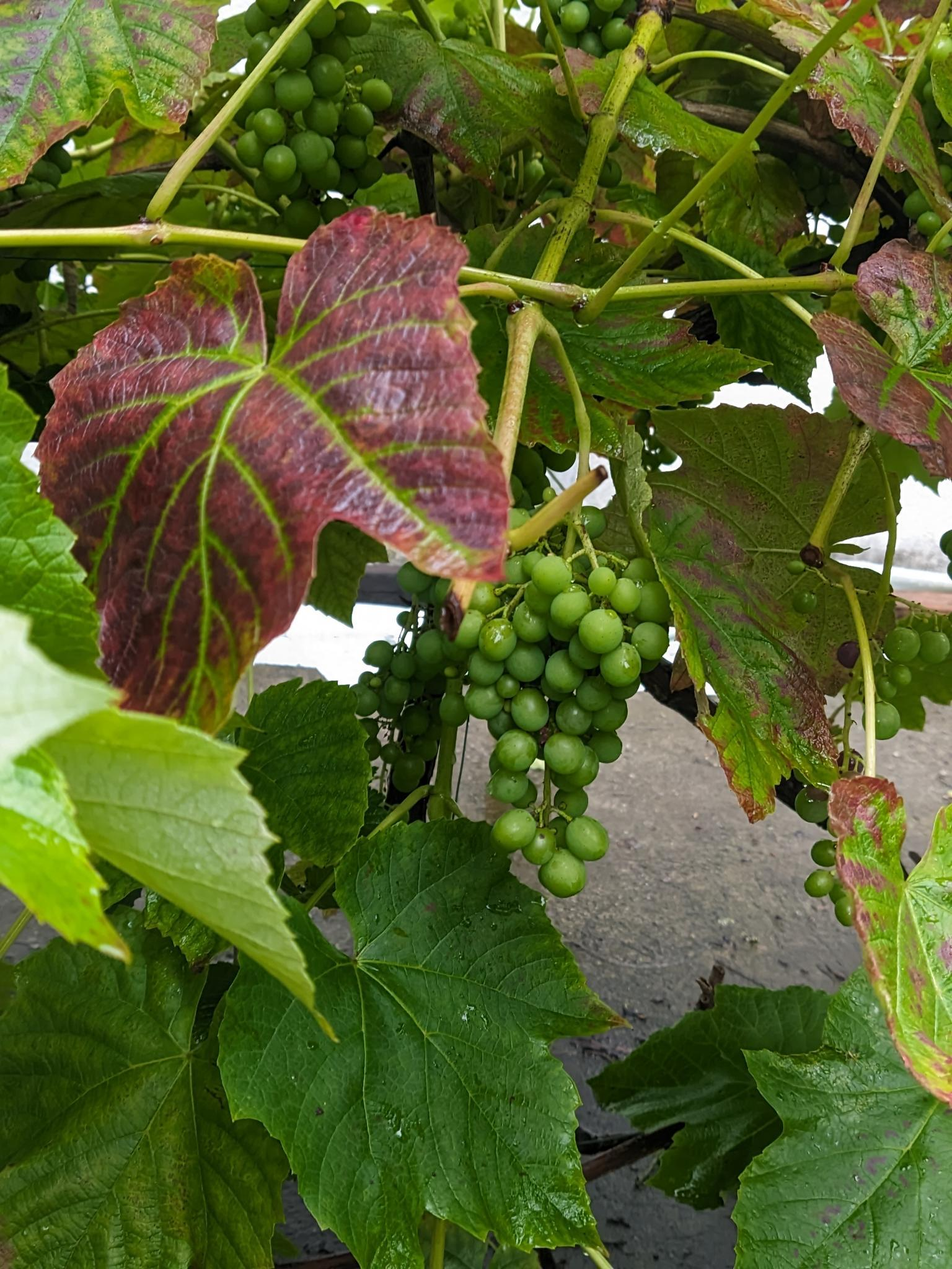Grape Unripe: (454, 506, 672, 898), (349, 446, 578, 794), (795, 592, 952, 929), (230, 0, 394, 235), (898, 38, 952, 253), (511, 0, 642, 57), (0, 128, 88, 206), (800, 163, 848, 244)
